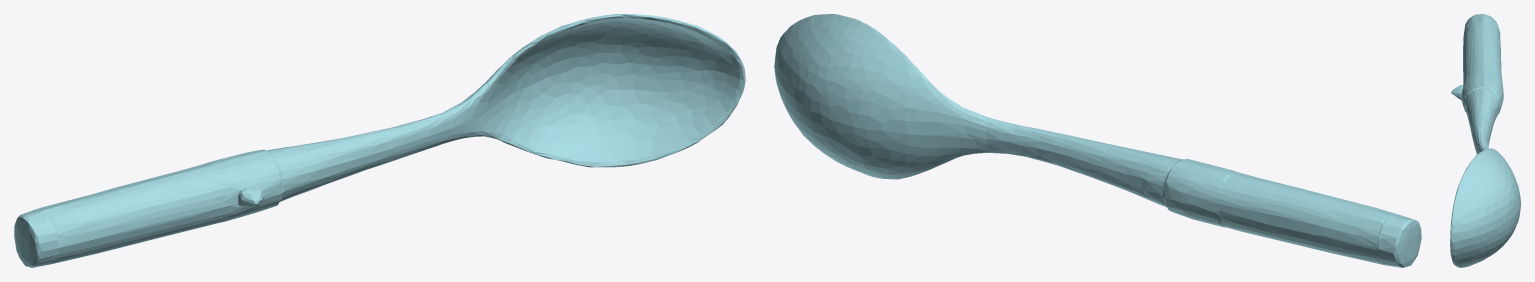
The model's file is spoon_spatula.obj.
3 renders of one model, left to right at view 1: azimuth 30°, elevation 25°; view 2: azimuth 150°, elevation 25°; view 3: azimuth 270°, elevation 25°, orthographic. The views are drawn at different scales.
Parts seen in each view (by area): view 1: geometry_0; view 2: geometry_0; view 3: geometry_0.
Boxes of the visible parts, <box> form: geometry_0: <box>14,14,745,267</box>; geometry_0: <box>774,14,1421,267</box>; geometry_0: <box>1450,14,1520,267</box>.
Size of the model in its own units: 0.3485 by 0.0738 by 0.0472.
